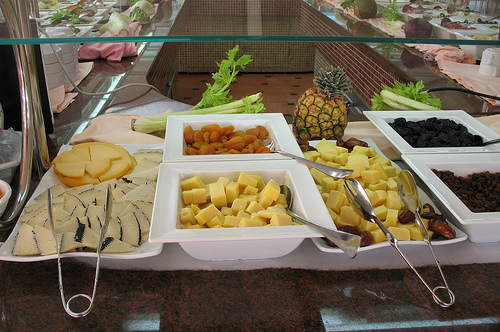pineapple: (296, 64, 349, 140)
